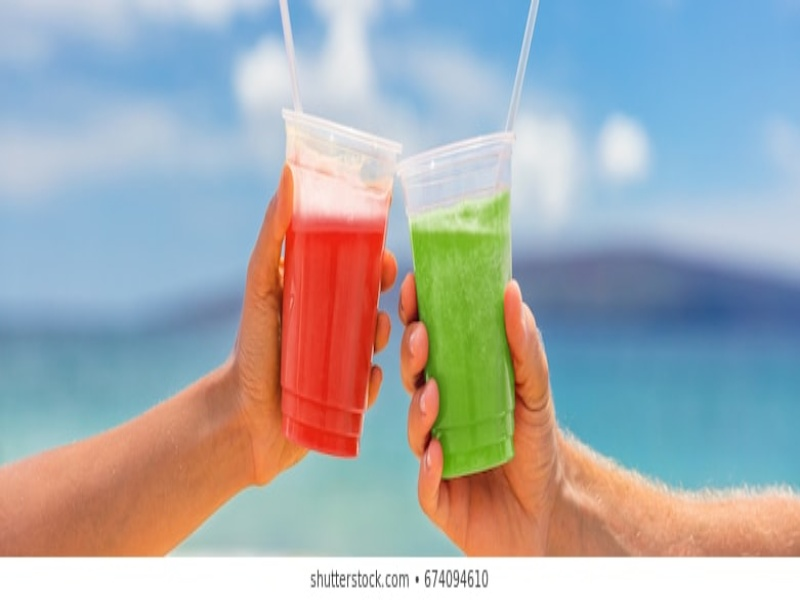plastic-cup: (390, 130, 538, 481), (275, 98, 398, 457)
straw: (488, 1, 543, 206), (271, 2, 317, 172)
